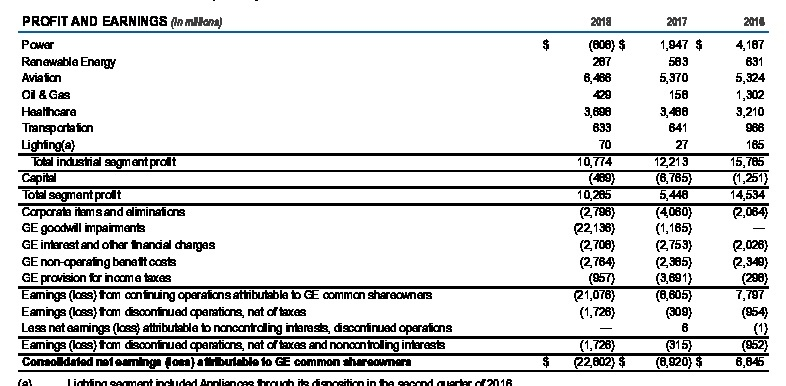table: (0, 0, 786, 386)
